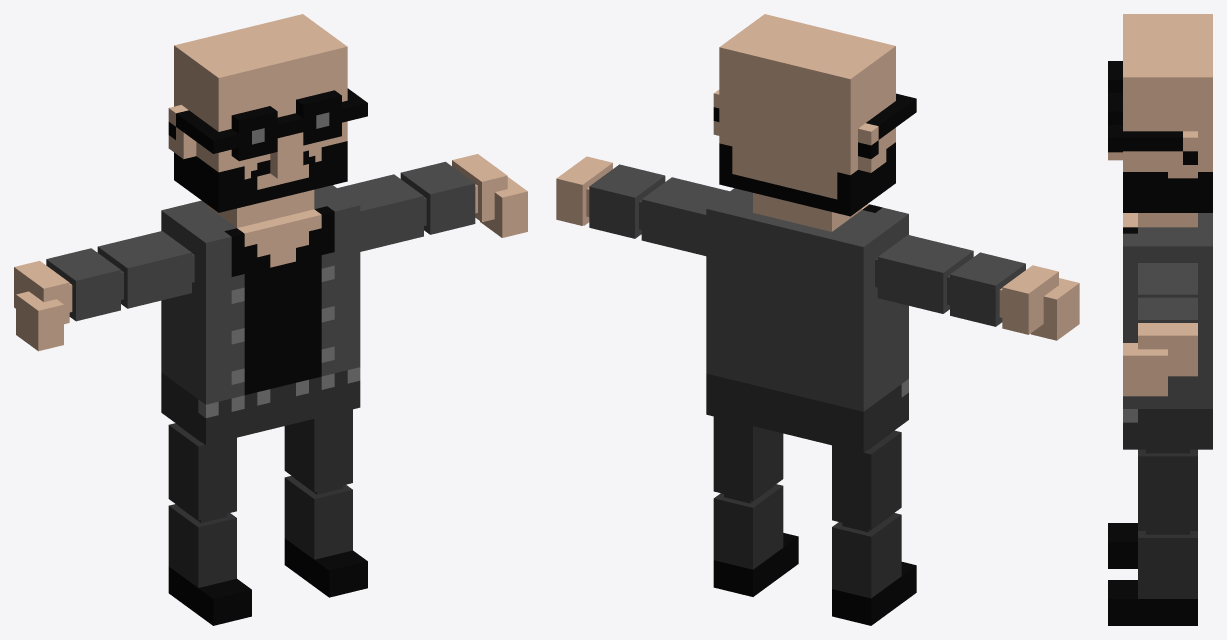
Rendered from NPCGabrielOriginal.fbx.
The picture shows the model from 3 angles, left to right: view 1: azimuth 30°, elevation 25°; view 2: azimuth 150°, elevation 25°; view 3: azimuth 270°, elevation 25°; orthographic projection.
Visible parts, largest first — view 1: NPCGabriel; view 2: NPCGabriel; view 3: NPCGabriel.
Boxes of the visible parts, box(x1,y1,x2,y2) form: NPCGabriel: box(14, 14, 527, 625); NPCGabriel: box(556, 14, 1079, 625); NPCGabriel: box(1108, 14, 1212, 625).
Bounding box in the file's own units: 760 × 800 × 140.
